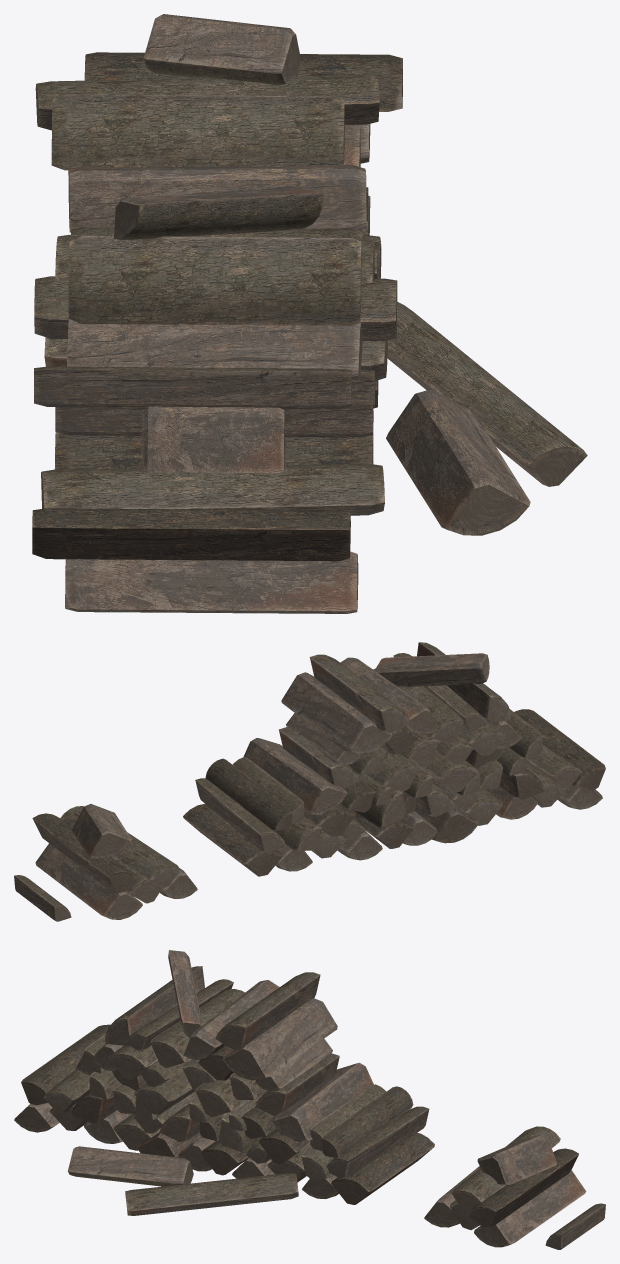
The picture shows the model from 3 angles, top to bottom: view 1: azimuth 30°, elevation 25°; view 2: azimuth 150°, elevation 25°; view 3: azimuth 270°, elevation 25°; orthographic projection. The views are drawn at different scales.
Visible parts, largest first — view 1: pf_logpile_01_2_0; view 2: pf_logpile_01_2_0; view 3: pf_logpile_01_2_0.
Part boxes in pixels (x1,y1,x2,y2): pf_logpile_01_2_0: [32, 14, 587, 613]; pf_logpile_01_2_0: [14, 642, 605, 921]; pf_logpile_01_2_0: [14, 950, 605, 1249].
Bounding box in the file's own units: 9.3 × 4.03 × 12.45.
Materials: 1 (1 with a texture image).
